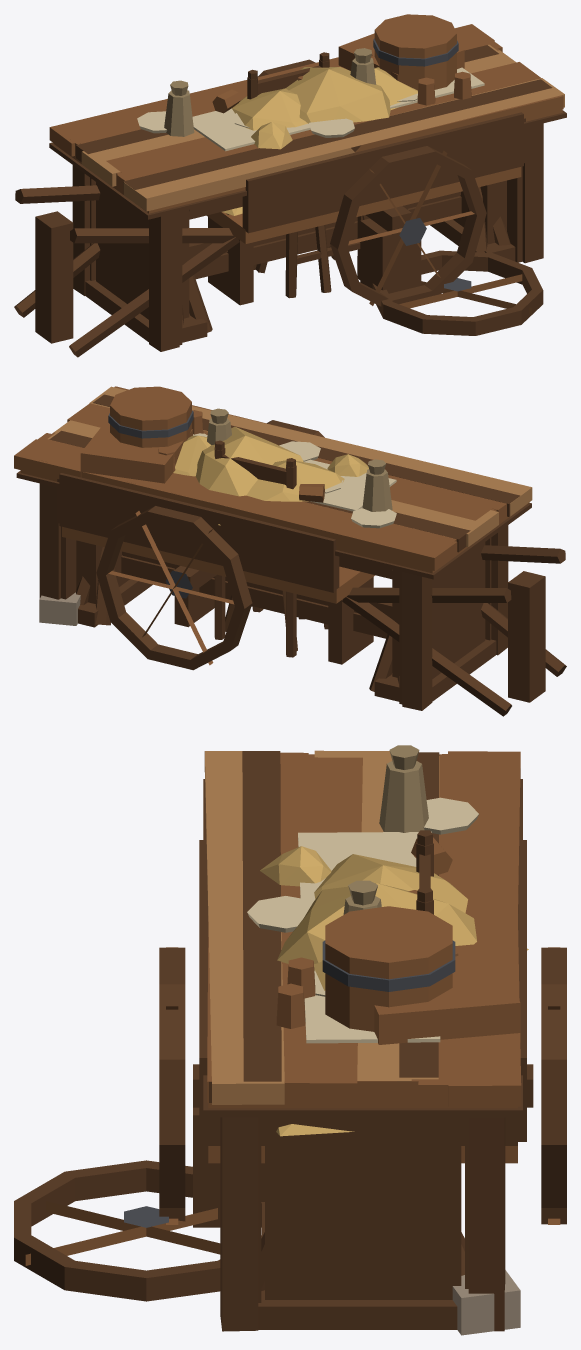
File: cluster-kit.glb
3 views of the same model, one above another, from view 1: azimuth 30°, elevation 25°; view 2: azimuth 150°, elevation 25°; view 3: azimuth 270°, elevation 25° (orthographic). The views are drawn at different scales.
Visible parts, largest first — view 1: cart_2, cart_3, long-table_1, long-table_4, long-table_2, long-table_3, cart_1, cart_4, chair_2, chair_1, chair_3, chair_4; view 2: long-table_4, long-table_3, long-table_1, cart_4, cart_3, cart_1, long-table_2, cart_2, chair_2, chair_3; view 3: long-table_4, long-table_1, long-table_3, long-table_2, cart_1, cart_4, cart_3, cart_2, chair_3.
Part boxes in pixels (x1=…): cart_2: x1=14, y1=67, x2=525, y2=352; cart_3: x1=15, y1=14, x2=486, y2=343; long-table_1: x1=68, y1=24, x2=564, y2=332; long-table_4: x1=49, y1=48, x2=566, y2=342; long-table_2: x1=72, y1=40, x2=563, y2=351; long-table_3: x1=49, y1=27, x2=552, y2=345; cart_1: x1=16, y1=213, x2=543, y2=357; cart_4: x1=14, y1=33, x2=474, y2=357; chair_2: x1=208, y1=204, x2=407, y2=305; chair_1: x1=248, y1=52, x2=362, y2=298; chair_3: x1=247, y1=59, x2=369, y2=297; chair_4: x1=255, y1=225, x2=335, y2=292; long-table_4: x1=16, y1=408, x2=531, y2=701; long-table_3: x1=23, y1=394, x2=520, y2=704; long-table_1: x1=14, y1=386, x2=532, y2=691; cart_4: x1=62, y1=418, x2=566, y2=715; cart_3: x1=108, y1=386, x2=565, y2=702; cart_1: x1=57, y1=474, x2=564, y2=716; long-table_2: x1=38, y1=386, x2=508, y2=710; cart_2: x1=59, y1=426, x2=565, y2=716; chair_2: x1=174, y1=564, x2=373, y2=664; chair_3: x1=214, y1=447, x2=327, y2=656; long-table_4: x1=203, y1=754, x2=522, y2=1329; long-table_1: x1=204, y1=745, x2=521, y2=1290; long-table_3: x1=209, y1=751, x2=520, y2=1335; long-table_2: x1=207, y1=750, x2=505, y2=1331; cart_1: x1=14, y1=947, x2=566, y2=1301; cart_4: x1=159, y1=943, x2=566, y2=1175; cart_3: x1=159, y1=906, x2=566, y2=1223; cart_2: x1=159, y1=840, x2=566, y2=1224; chair_3: x1=416, y1=843, x2=433, y2=914.
Bounding box in the file's own units: 1.73 × 0.7317 × 1.07.
